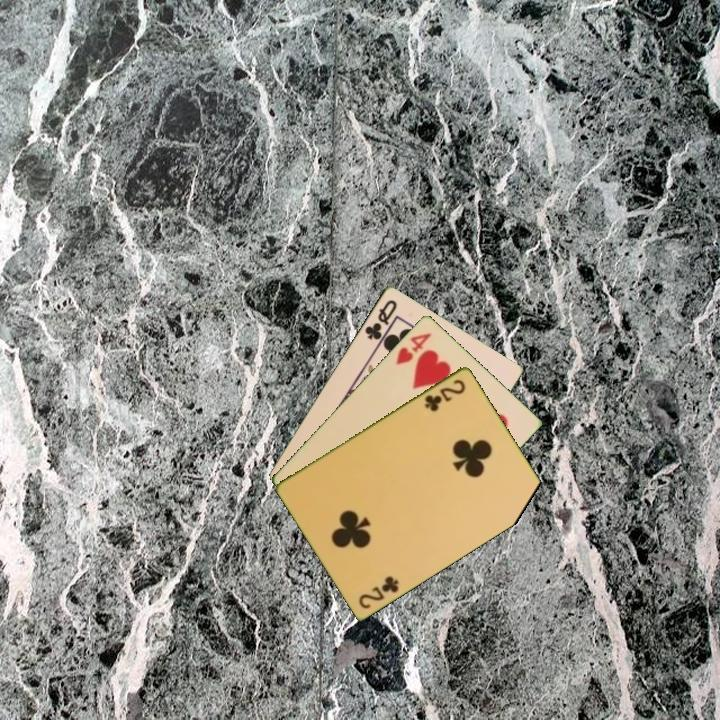2c: (421, 375, 468, 414), (355, 572, 402, 611)
4h: (392, 329, 434, 368)
Qc: (361, 295, 400, 343)
